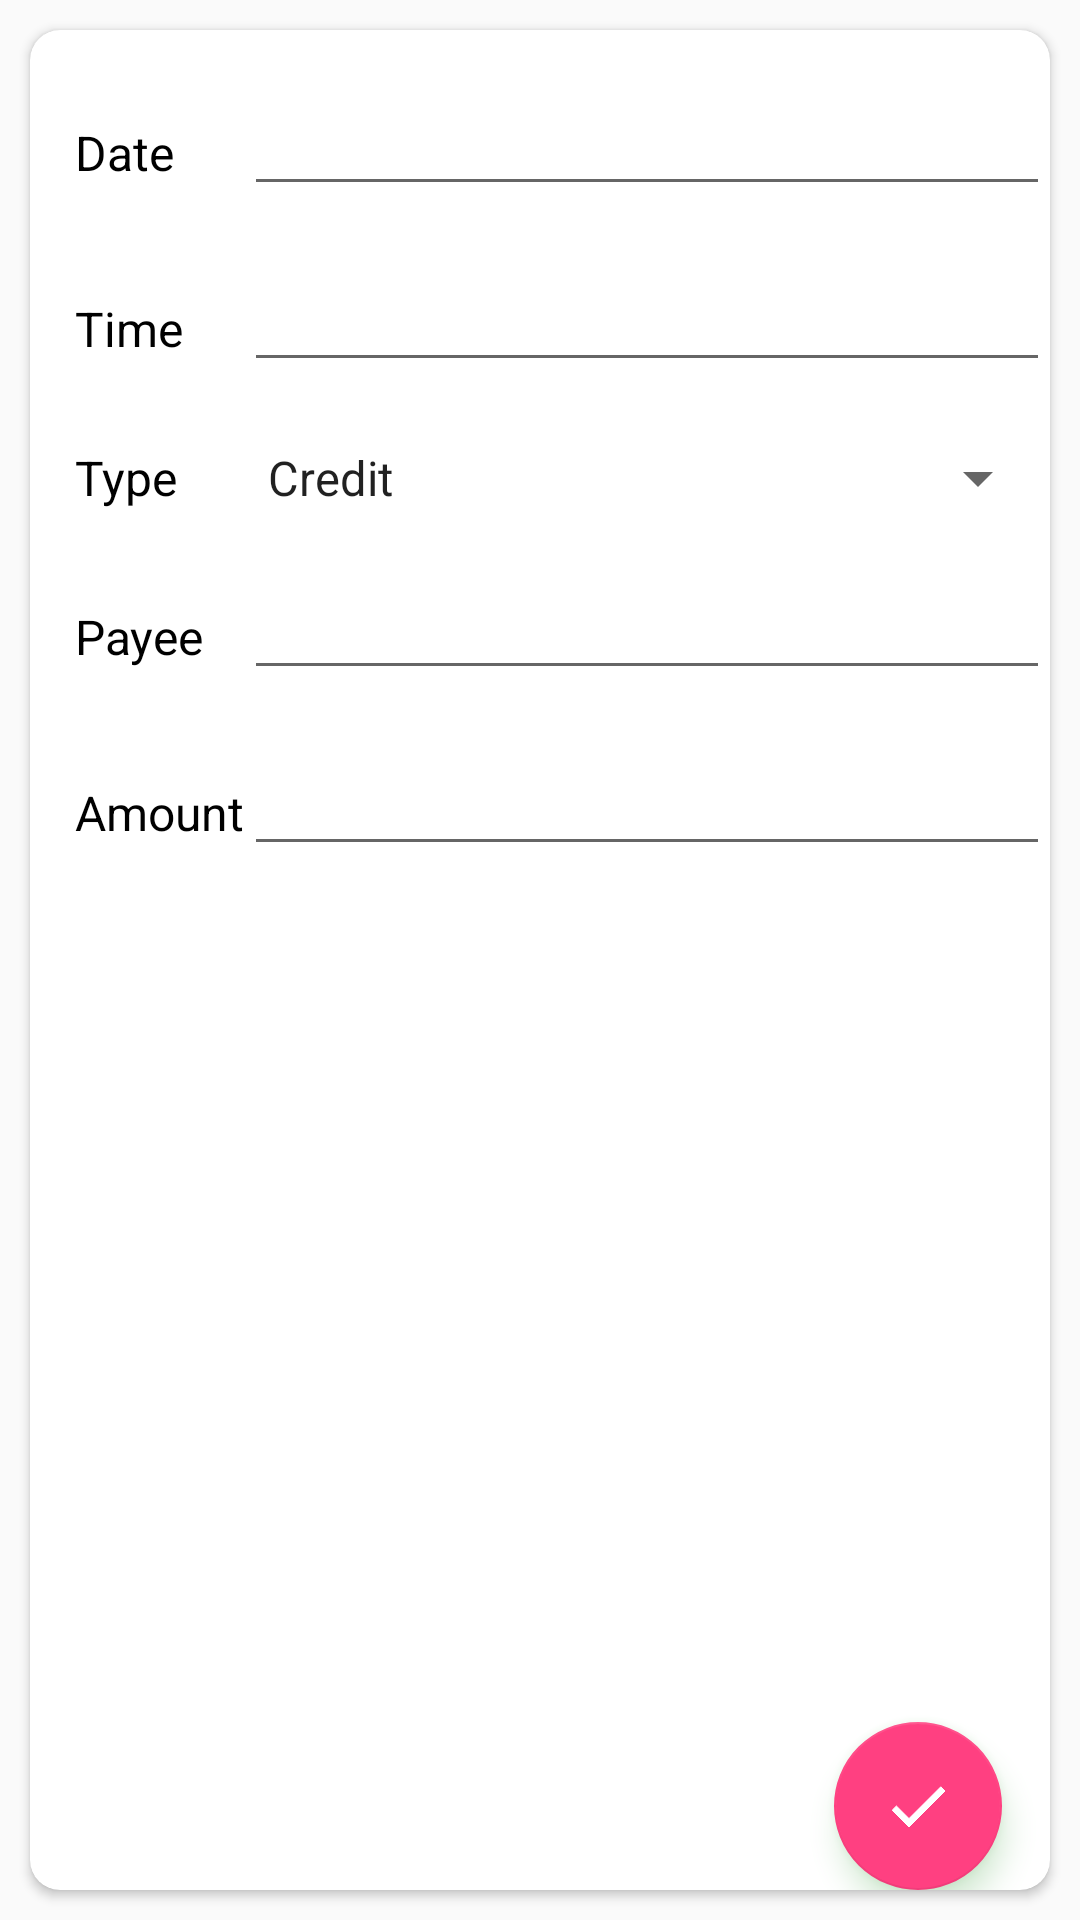

Named icons in this screenshot (1080w x 1920h) and their bounding boxes, bbox=(x1, y1, x2, y2):
done: bbox=(834, 1722, 1002, 1890)
